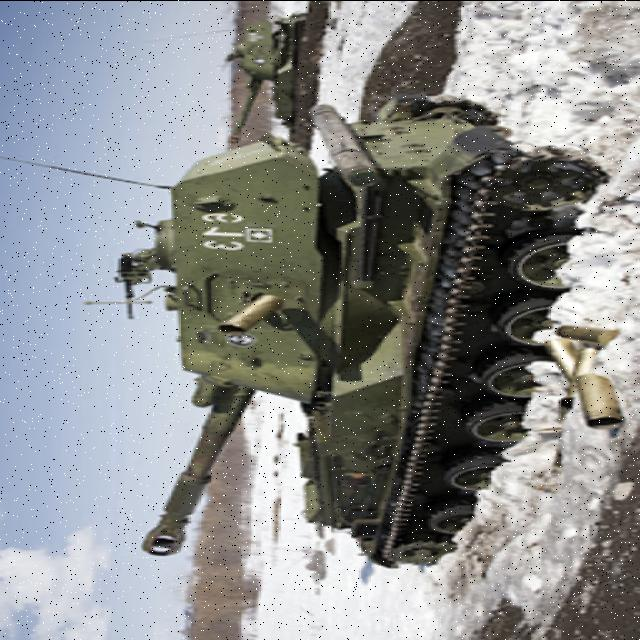ART: (118, 93, 626, 572), (219, 12, 305, 142)
